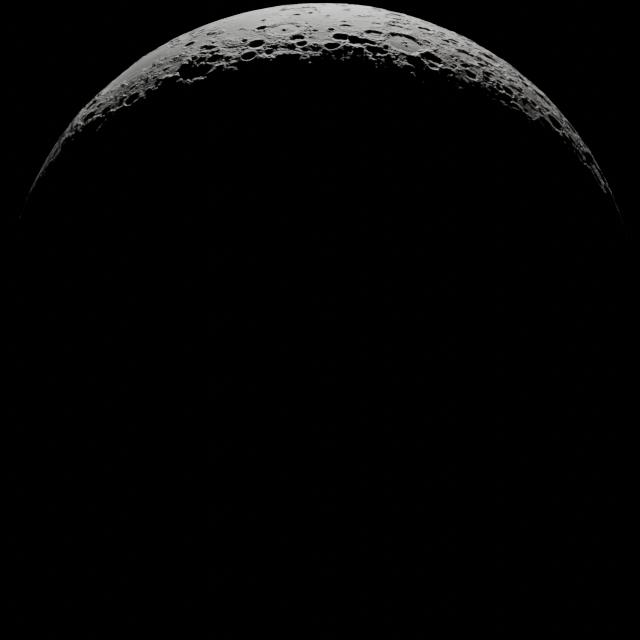crater: (383, 35, 421, 55), (238, 47, 262, 64), (243, 36, 266, 48), (319, 42, 343, 53), (288, 31, 308, 42), (331, 31, 352, 40), (462, 70, 480, 79), (292, 39, 306, 49)
